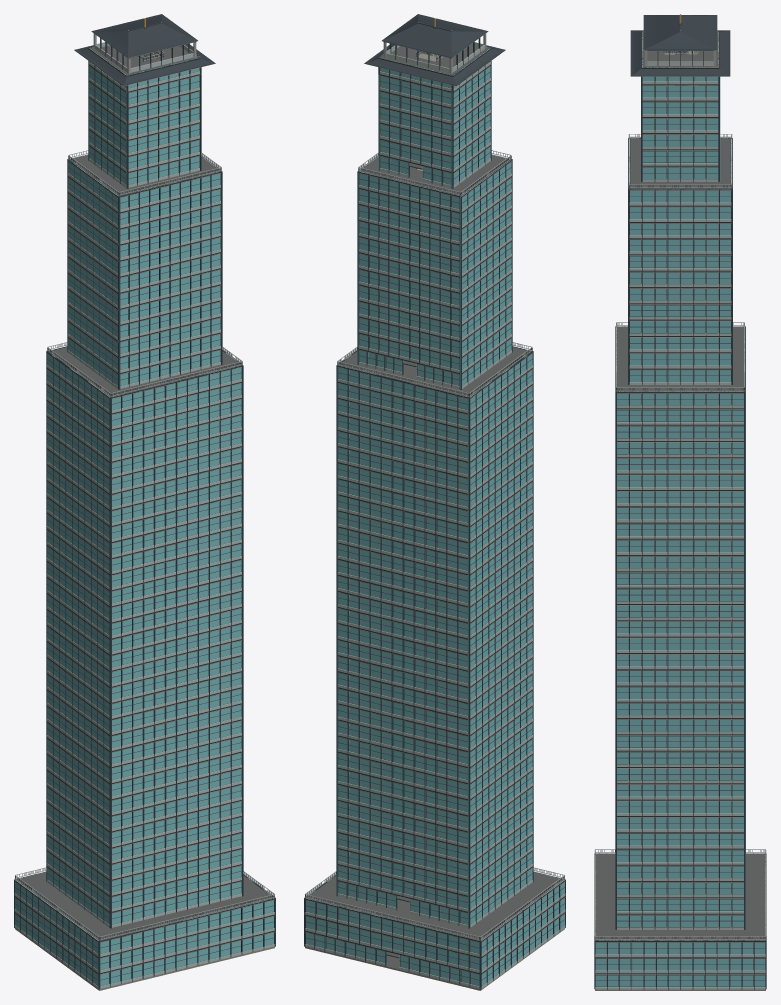
The picture shows the model from 3 angles, left to right: view 1: azimuth 30°, elevation 25°; view 2: azimuth 150°, elevation 25°; view 3: azimuth 270°, elevation 25°; orthographic projection.
Visible parts, largest first — view 1: 金属框、密封环与独立幕墙玻璃 (×109), 石铺面与混凝土承板 (×4), 连续瓦檐与金属承板、钢梁 (×2), 独立建筑光学槽与承框 (×2), 石脚与连续金属护栏; view 2: 金属框、密封环与独立幕墙玻璃 (×109), 石铺面与混凝土承板 (×5), 连续瓦檐与金属承板、钢梁 (×2), 独立建筑光学槽与承框 (×2), 石脚与连续金属护栏; view 3: 金属框、密封环与独立幕墙玻璃 (×56), 石铺面与混凝土承板 (×5), 连续瓦檐与金属承板、钢梁 (×2), 独立建筑光学槽与承框 (×2), 石脚与连续金属护栏.
Boxes of the visible parts, x1,y1,x2,y2 form: 金属框、密封环与独立幕墙玻璃 (×109): (14, 57, 275, 989); 石铺面与混凝土承板 (×4): (16, 45, 273, 942); 连续瓦檐与金属承板、钢梁 (×2): (74, 14, 215, 86); 独立建筑光学槽与承框 (×2): (110, 365, 243, 928); 石脚与连续金属护栏: (99, 894, 274, 941); 金属框、密封环与独立幕墙玻璃 (×109): (304, 57, 565, 989); 石铺面与混凝土承板 (×5): (305, 45, 564, 990); 连续瓦檐与金属承板、钢梁 (×2): (364, 14, 505, 86); 独立建筑光学槽与承框 (×2): (336, 365, 469, 928); 石脚与连续金属护栏: (305, 894, 480, 941); 金属框、密封环与独立幕墙玻璃 (×56): (595, 50, 765, 989); 石铺面与混凝土承板 (×5): (595, 31, 765, 990); 连续瓦檐与金属承板、钢梁 (×2): (630, 14, 730, 76); 独立建筑光学槽与承框 (×2): (615, 391, 745, 929); 石脚与连续金属护栏: (595, 936, 765, 940).
Size of the model in its own units: 48.52 by 240 by 40.24.
Materials: 14 (14 with a texture image).
